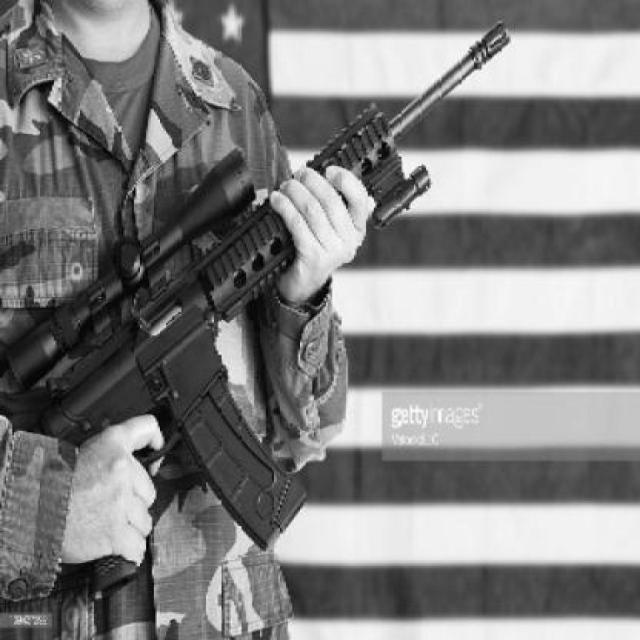weapon: (0, 21, 511, 595)
